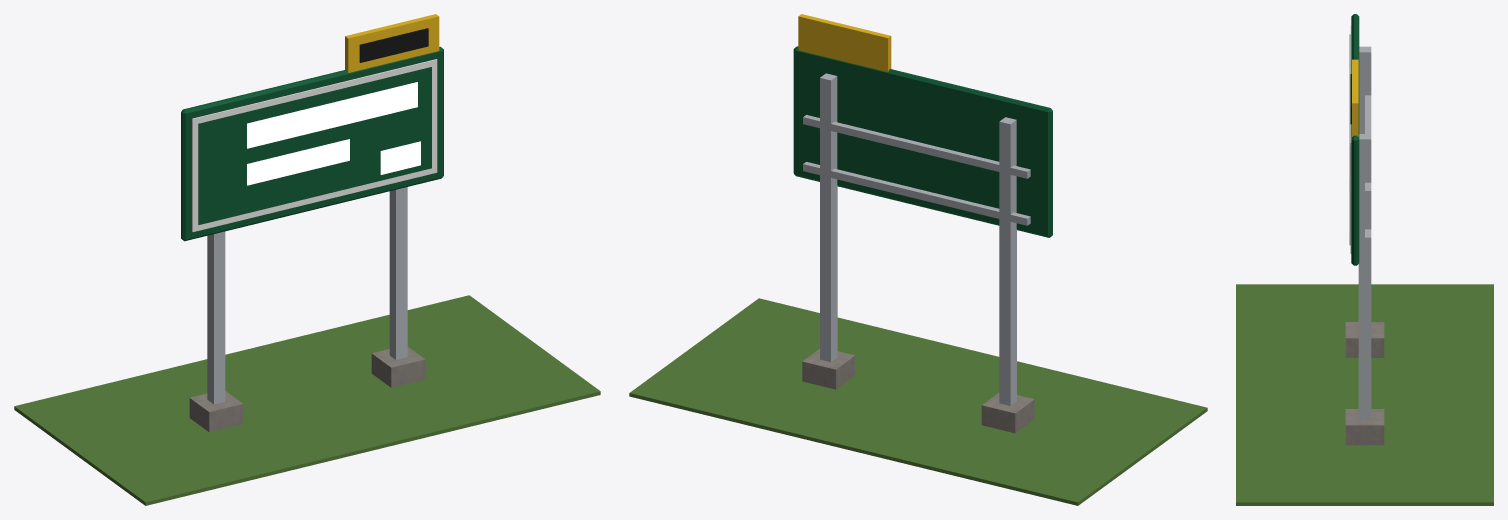
The model's file is OT_ExitSign.glb.
3 views of the same model, side by side, from view 1: azimuth 30°, elevation 25°; view 2: azimuth 150°, elevation 25°; view 3: azimuth 270°, elevation 25° (orthographic).
Parts seen in each view (by area): view 1: OT_ExitSign_Grass__567d3a, OT_ExitSign_HwyGreen__0f5a35, OT_ExitSign_SignWhiteGlow__f4f8ff, OT_ExitSign_Galv__b4b9bf, OT_ExitSign_SignBorder__f0f0ee, OT_ExitSign_Concrete, OT_ExitSign_ExitYellow__e8b81e, OT_ExitSign_ExitText__1a1a1a; view 2: OT_ExitSign_Grass__567d3a, OT_ExitSign_HwyGreen__0f5a35, OT_ExitSign_Galv__b4b9bf, OT_ExitSign_ExitYellow__e8b81e, OT_ExitSign_Concrete; view 3: OT_ExitSign_Grass__567d3a, OT_ExitSign_Galv__b4b9bf, OT_ExitSign_Concrete, OT_ExitSign_HwyGreen__0f5a35, OT_ExitSign_ExitYellow__e8b81e, OT_ExitSign_SignBorder__f0f0ee.
Boxes of the visible parts, x1,y1,x2,y2 form: OT_ExitSign_Grass__567d3a: [14, 295, 600, 505]; OT_ExitSign_HwyGreen__0f5a35: [181, 46, 443, 241]; OT_ExitSign_SignWhiteGlow__f4f8ff: [247, 82, 420, 185]; OT_ExitSign_Galv__b4b9bf: [207, 187, 407, 404]; OT_ExitSign_SignBorder__f0f0ee: [192, 59, 437, 231]; OT_ExitSign_Concrete: [189, 346, 425, 432]; OT_ExitSign_ExitYellow__e8b81e: [345, 14, 439, 72]; OT_ExitSign_ExitText__1a1a1a: [359, 28, 428, 62]; OT_ExitSign_Grass__567d3a: [629, 298, 1207, 505]; OT_ExitSign_HwyGreen__0f5a35: [793, 46, 1052, 237]; OT_ExitSign_Galv__b4b9bf: [803, 73, 1030, 405]; OT_ExitSign_ExitYellow__e8b81e: [798, 14, 891, 71]; OT_ExitSign_Concrete: [802, 349, 1034, 433]; OT_ExitSign_Grass__567d3a: [1236, 284, 1493, 505]; OT_ExitSign_Galv__b4b9bf: [1358, 46, 1371, 419]; OT_ExitSign_Concrete: [1345, 322, 1384, 445]; OT_ExitSign_HwyGreen__0f5a35: [1349, 14, 1359, 265]; OT_ExitSign_ExitYellow__e8b81e: [1352, 59, 1358, 136]; OT_ExitSign_SignBorder__f0f0ee: [1350, 25, 1351, 253].
Bounding box in the file's own units: 8 × 6.05 × 4.
Materials: 8 (1 with a texture image).
